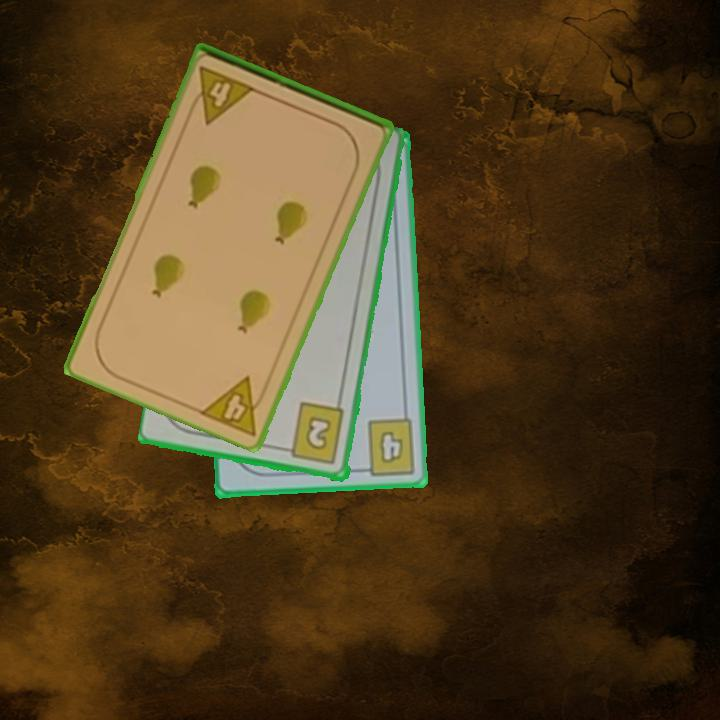2b: (279, 400, 348, 468)
4b: (355, 415, 419, 478)
4p: (196, 372, 273, 439), (184, 63, 258, 127)
